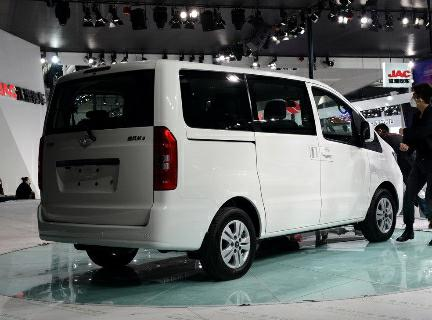江淮-瑞风M4: (32, 63, 410, 278)
